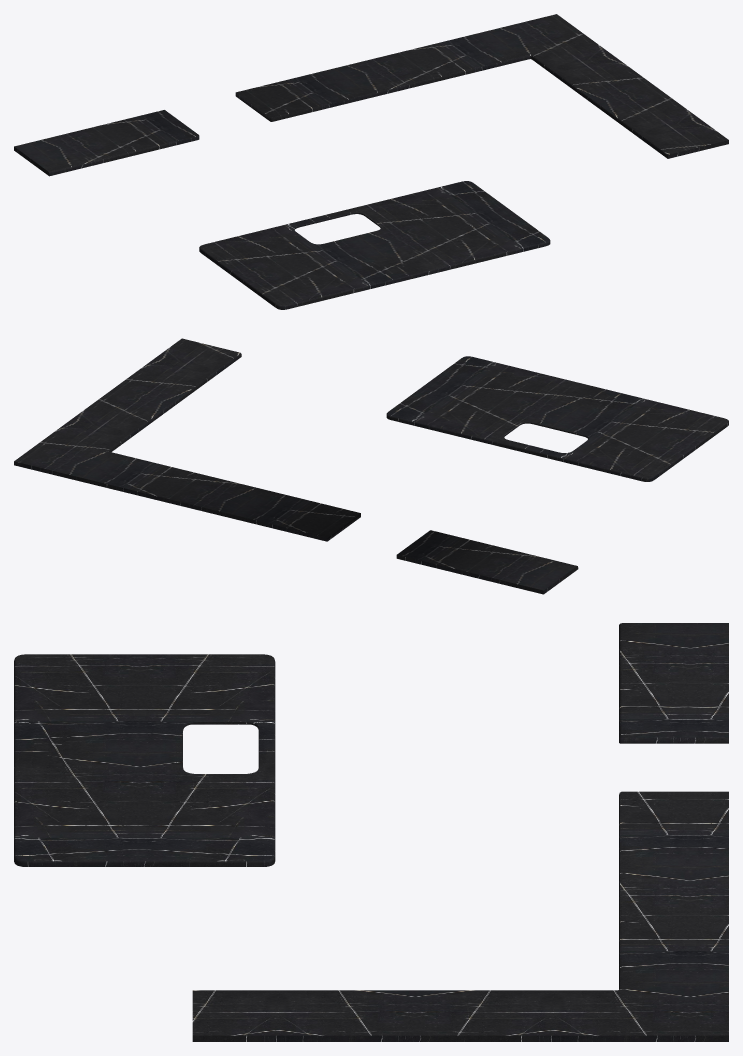
The model's file is 1989_kitchen_Countertops_QuartzEtNoir.gltf.
3 renders of one model, top to bottom at view 1: azimuth 30°, elevation 25°; view 2: azimuth 150°, elevation 25°; view 3: azimuth 270°, elevation 25°, orthographic. The views are drawn at different scales.
Parts seen in each view (by area): view 1: Countertop_quartz_et_noir.001; view 2: Countertop_quartz_et_noir.001; view 3: Countertop_quartz_et_noir.001.
Part boxes in pixels (x1,y1,x2,y2): Countertop_quartz_et_noir.001: [14, 14, 728, 309]; Countertop_quartz_et_noir.001: [14, 338, 728, 594]; Countertop_quartz_et_noir.001: [14, 623, 728, 1041].
Bounding box in the file's own units: 7.1 × 0.07 × 5.2.
1 material, 1 textured.
